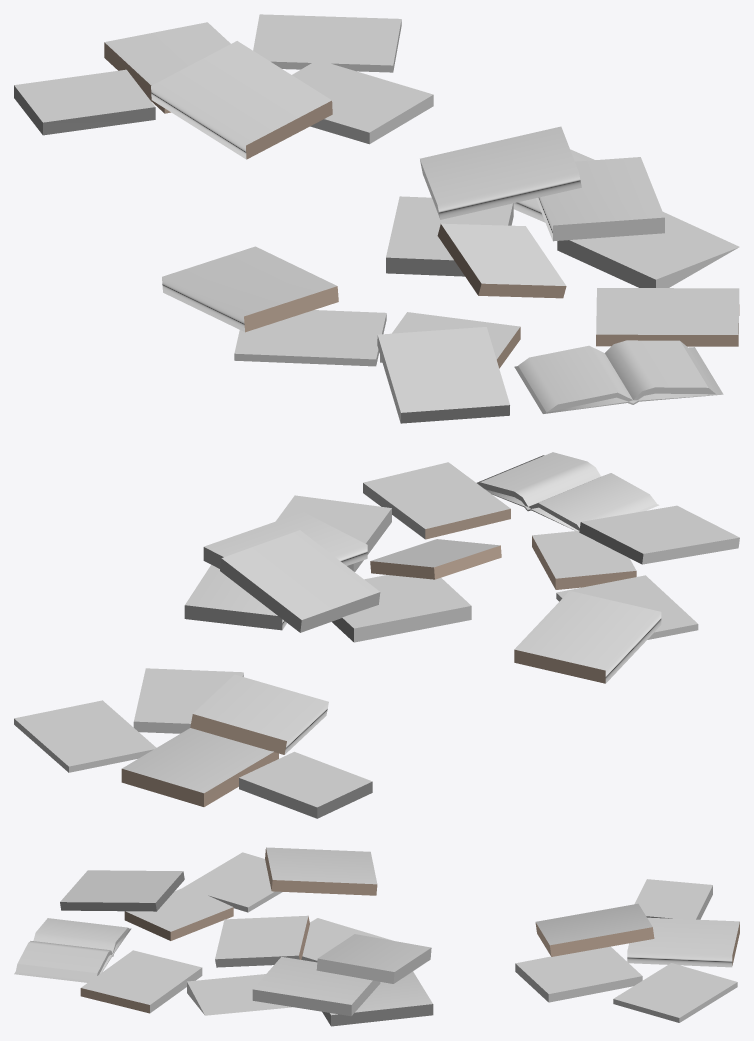
Rendered from SM_H_Government_Tide_Book_02H_ATLAS.fbx.
The picture shows the model from 3 angles, top to bottom: view 1: azimuth 30°, elevation 25°; view 2: azimuth 150°, elevation 25°; view 3: azimuth 270°, elevation 25°; orthographic projection. The views are drawn at different scales.
Visible parts, largest first — view 1: SM_H_Government_Tide_Book_02H_ATLAS; view 2: SM_H_Government_Tide_Book_02H_ATLAS; view 3: SM_H_Government_Tide_Book_02H_ATLAS.
Part boxes in pixels (box(x1,y1,x2,y2)): SM_H_Government_Tide_Book_02H_ATLAS: box(14, 14, 739, 423); SM_H_Government_Tide_Book_02H_ATLAS: box(14, 452, 739, 818); SM_H_Government_Tide_Book_02H_ATLAS: box(14, 847, 739, 1026).
Bounding box in the file's own units: 136 × 244 × 14.56.
